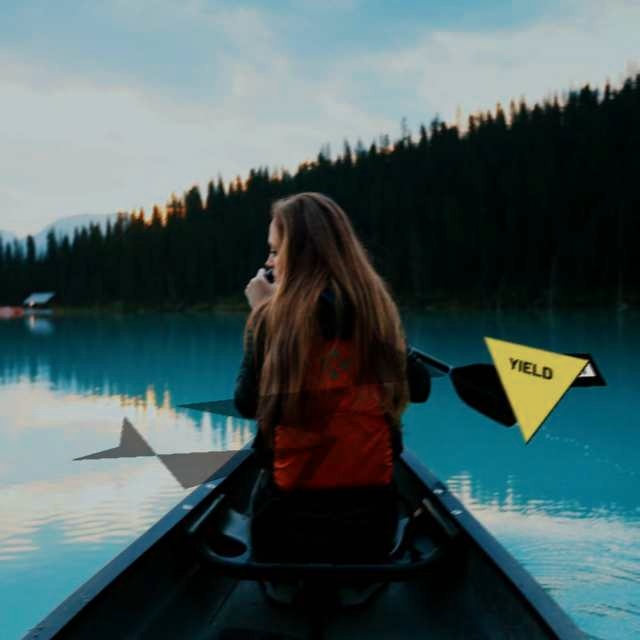ONE_WAY_ left: (498, 352, 608, 389)
YIELD: (483, 335, 591, 445)
